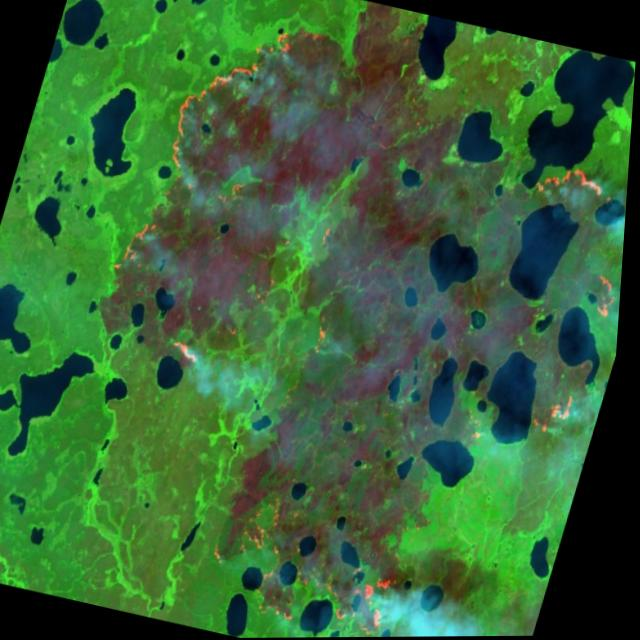fire: (88, 0, 331, 380), (459, 141, 632, 464), (195, 463, 451, 639), (290, 208, 367, 357)
